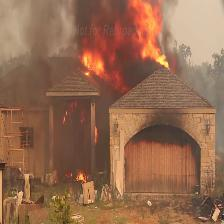fire: (74, 1, 183, 98), (61, 118, 114, 195)
smoke: (12, 0, 78, 131), (0, 0, 136, 62)
